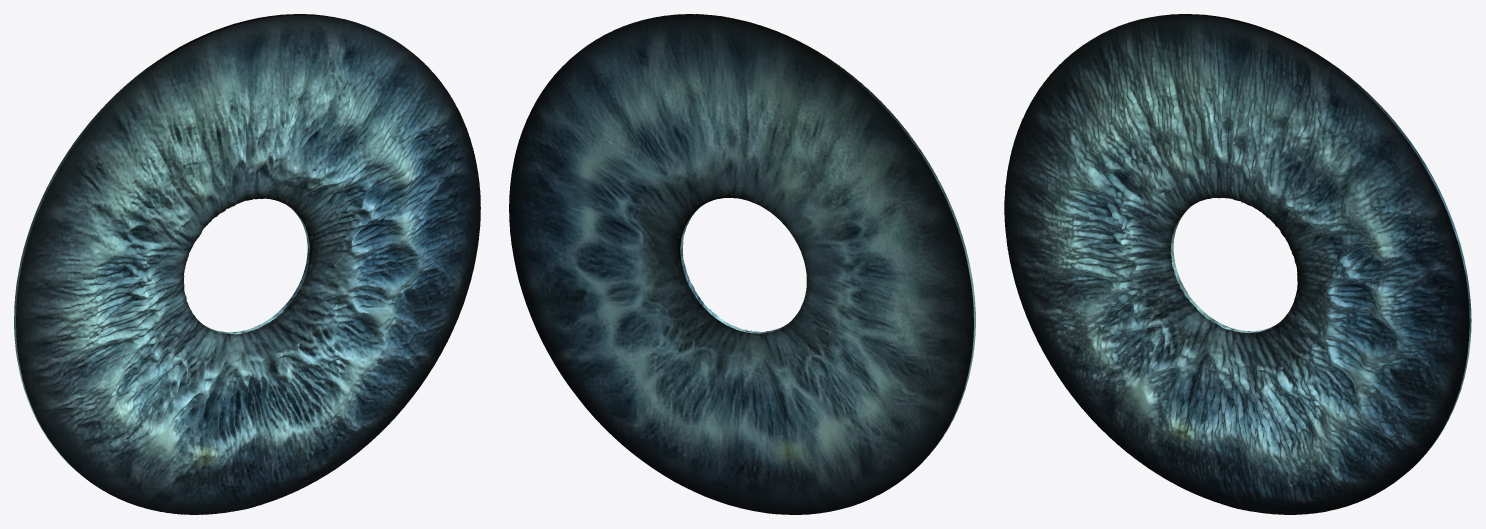
The model's file is iris-transformed.glb.
3 views of the same model, side by side, from view 1: azimuth 30°, elevation 25°; view 2: azimuth 150°, elevation 25°; view 3: azimuth 330°, elevation 25° (orthographic).
Parts seen in each view (by area): view 1: Object_2; view 2: Object_2; view 3: Object_2.
Part boxes in pixels (x1,y1,x2,y2): Object_2: (14, 14, 480, 514); Object_2: (509, 14, 975, 514); Object_2: (1004, 14, 1471, 514).
Bounding box in the file's own units: 50.01 × 50.01 × 1.8.
Materials: 1 (1 with a texture image).
